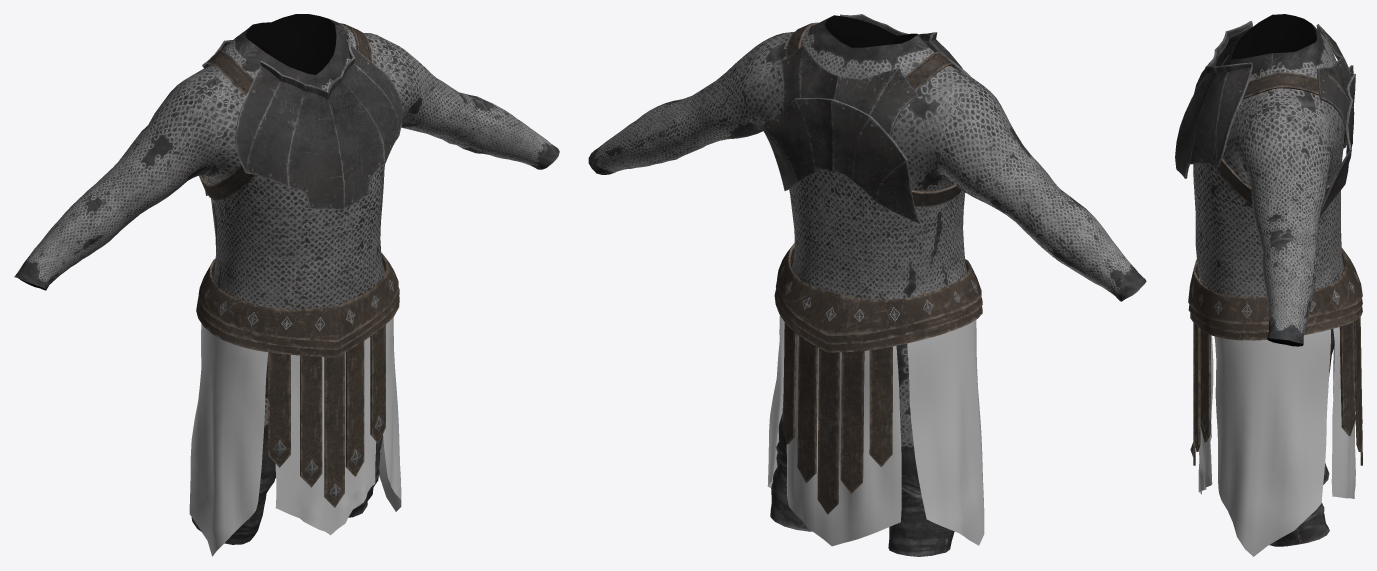
The model's file is sk_uruk_mordor_chainmail_medium_a1.fbx.
The picture shows the model from 3 angles, left to right: view 1: azimuth 30°, elevation 25°; view 2: azimuth 150°, elevation 25°; view 3: azimuth 270°, elevation 25°; orthographic projection. The views are drawn at different scales.
Visible parts, largest first — view 1: sk_uruk_mordor_chainmail_medium_a1.0, sk_uruk_mordor_chainmail_medium_a1.1, sk_uruk_mordor_chainmail_medium_a1.2, sk_uruk_mordor_chainmail_medium_a1.3; view 2: sk_uruk_mordor_chainmail_medium_a1.0, sk_uruk_mordor_chainmail_medium_a1.1, sk_uruk_mordor_chainmail_medium_a1.2, sk_uruk_mordor_chainmail_medium_a1.3; view 3: sk_uruk_mordor_chainmail_medium_a1.0, sk_uruk_mordor_chainmail_medium_a1.2, sk_uruk_mordor_chainmail_medium_a1.1, sk_uruk_mordor_chainmail_medium_a1.3.
Boxes of the visible parts, x1,y1,x2,y2 form: sk_uruk_mordor_chainmail_medium_a1.0: [14, 14, 559, 544]; sk_uruk_mordor_chainmail_medium_a1.1: [196, 23, 399, 507]; sk_uruk_mordor_chainmail_medium_a1.2: [189, 317, 401, 556]; sk_uruk_mordor_chainmail_medium_a1.3: [202, 39, 402, 209]; sk_uruk_mordor_chainmail_medium_a1.0: [588, 15, 1146, 556]; sk_uruk_mordor_chainmail_medium_a1.1: [774, 22, 982, 514]; sk_uruk_mordor_chainmail_medium_a1.2: [767, 315, 984, 546]; sk_uruk_mordor_chainmail_medium_a1.3: [760, 14, 970, 223]; sk_uruk_mordor_chainmail_medium_a1.0: [1193, 14, 1344, 546]; sk_uruk_mordor_chainmail_medium_a1.2: [1198, 278, 1355, 556]; sk_uruk_mordor_chainmail_medium_a1.1: [1188, 72, 1362, 465]; sk_uruk_mordor_chainmail_medium_a1.3: [1175, 21, 1355, 216].
Size of the model in its own units: 1.37 by 0.4273 by 1.21.
